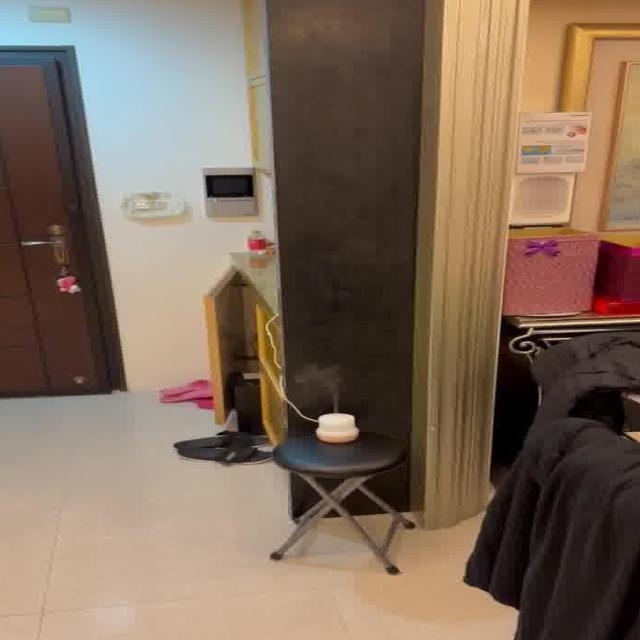fire: (296, 364, 353, 406)
